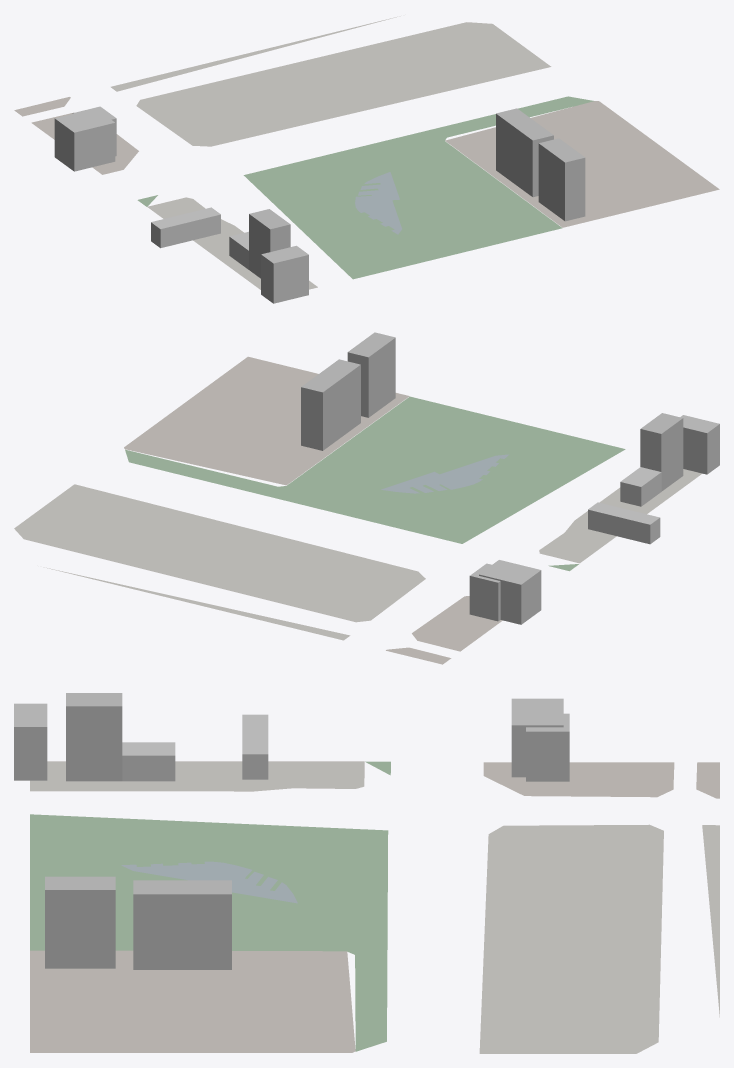
The model's file is 99_103_mid.glb.
3 renders of one model, top to bottom at view 1: azimuth 30°, elevation 25°; view 2: azimuth 150°, elevation 25°; view 3: azimuth 270°, elevation 25°, orthographic. The views are drawn at different scales.
Bounding box in the file's own units: 536 × 64.04 × 512.
